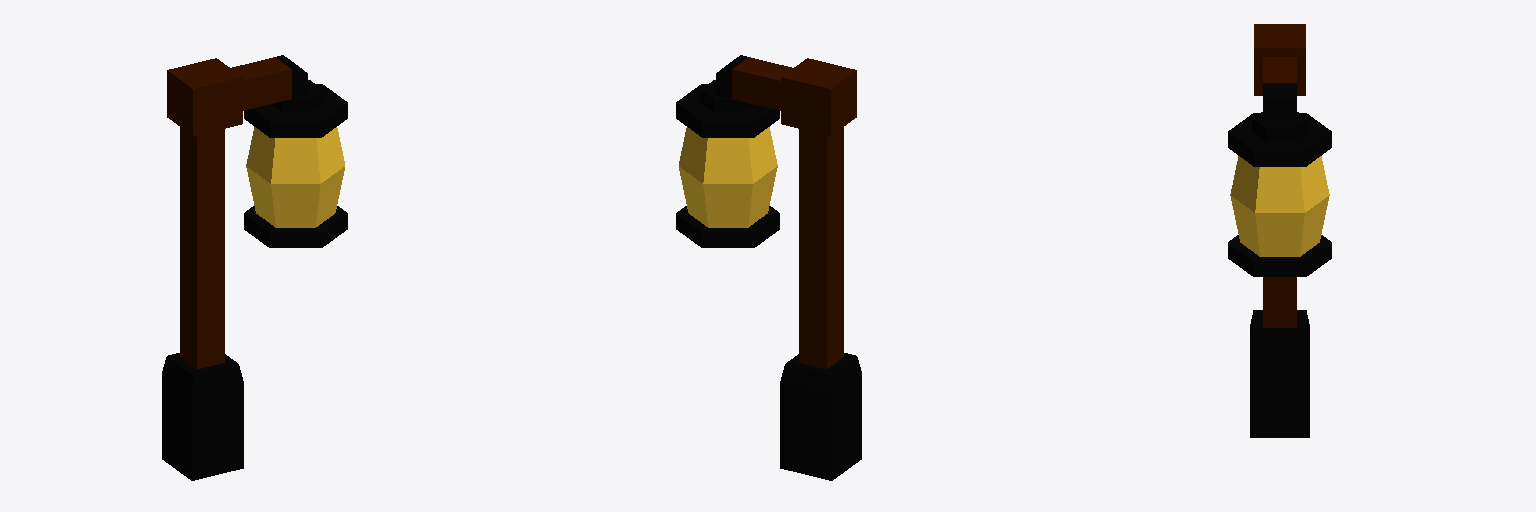
The model's file is woodenlamp.obj.
3 views of the same model, side by side, from view 1: azimuth 30°, elevation 25°; view 2: azimuth 150°, elevation 25°; view 3: azimuth 270°, elevation 25° (orthographic).
Visible parts, largest first — view 1: lanternStanding_0; view 2: lanternStanding_0; view 3: lanternStanding_0.
Part boxes in pixels (x1,y1,x2,y2): lanternStanding_0: (162, 55, 347, 480); lanternStanding_0: (676, 55, 861, 480); lanternStanding_0: (1228, 24, 1331, 437).
Bounding box in the file's own units: 0.3821 × 0.9 × 0.219.